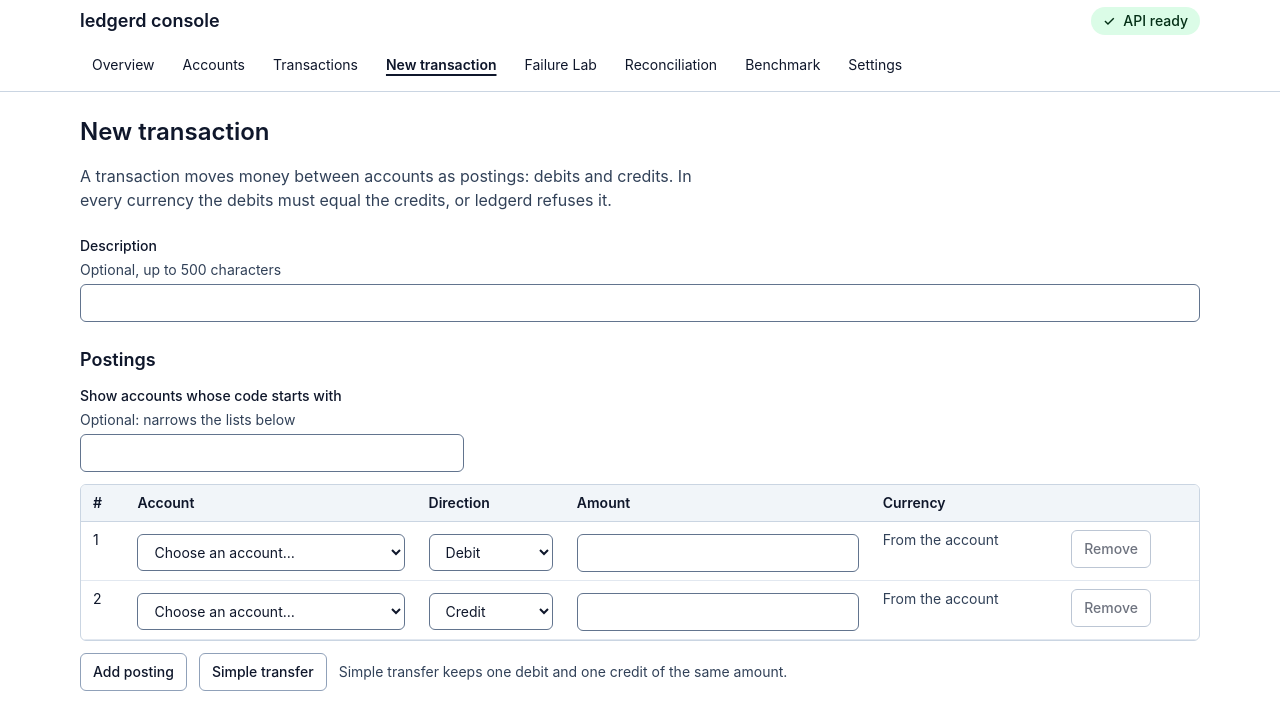
sending the same request again (R7.2, R7.3) › shows the key used, and a repeat is a replay: the first transaction comes back and nothing moves
This screenshot has width=1280, height=704.
expect the heading "New transaction" is shown: met, box [80, 116, 270, 148]
Select "bank (USD)" in the 1st dropdown named "Account for posting 1" at [271, 552], box [138, 534, 405, 571]
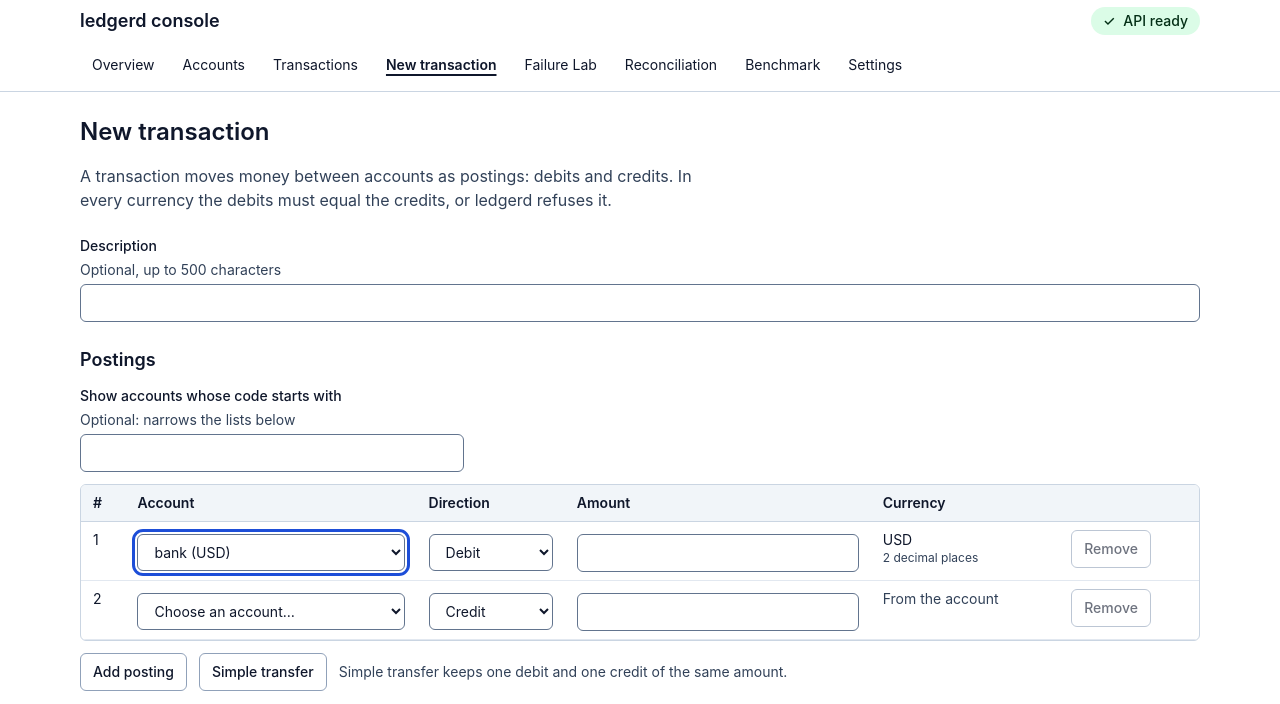
Select "wallet (USD)" in the 3rd dropdown named "Account for posting 2" at [271, 612], box [138, 593, 405, 630]
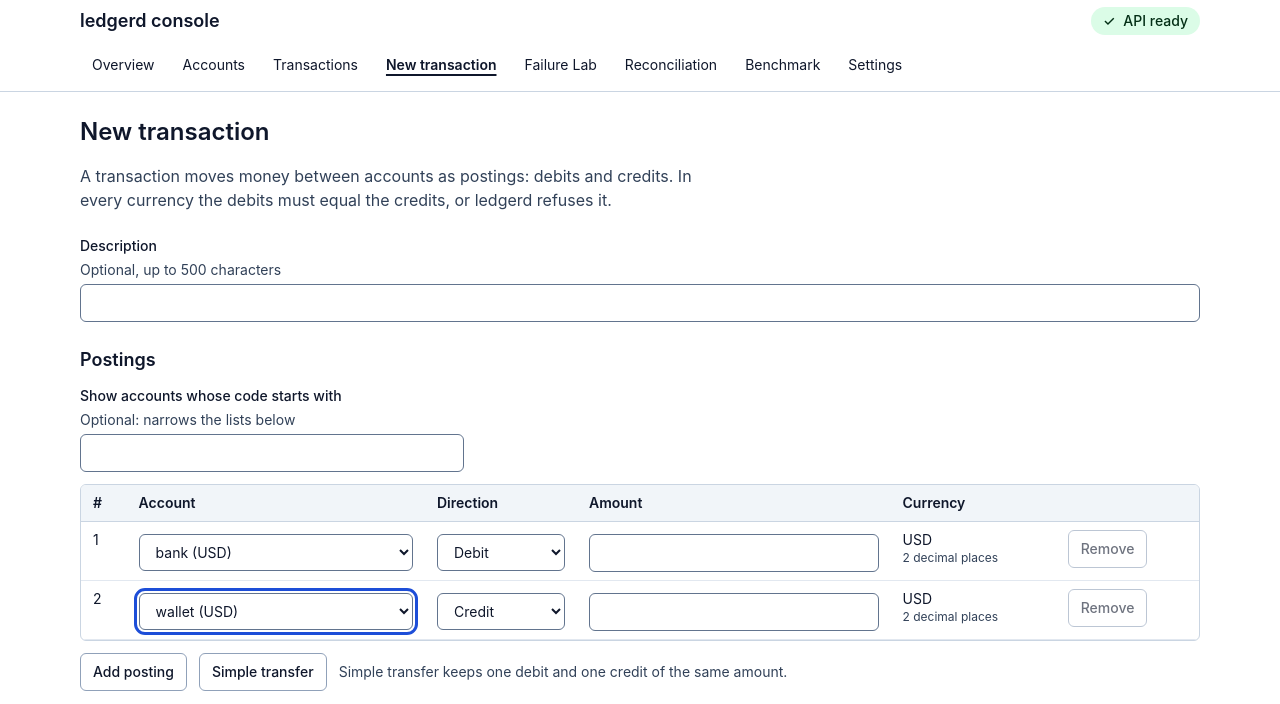
Type "100" into the 3rd field.
click(734, 553); type("100")  # box [589, 534, 879, 572]
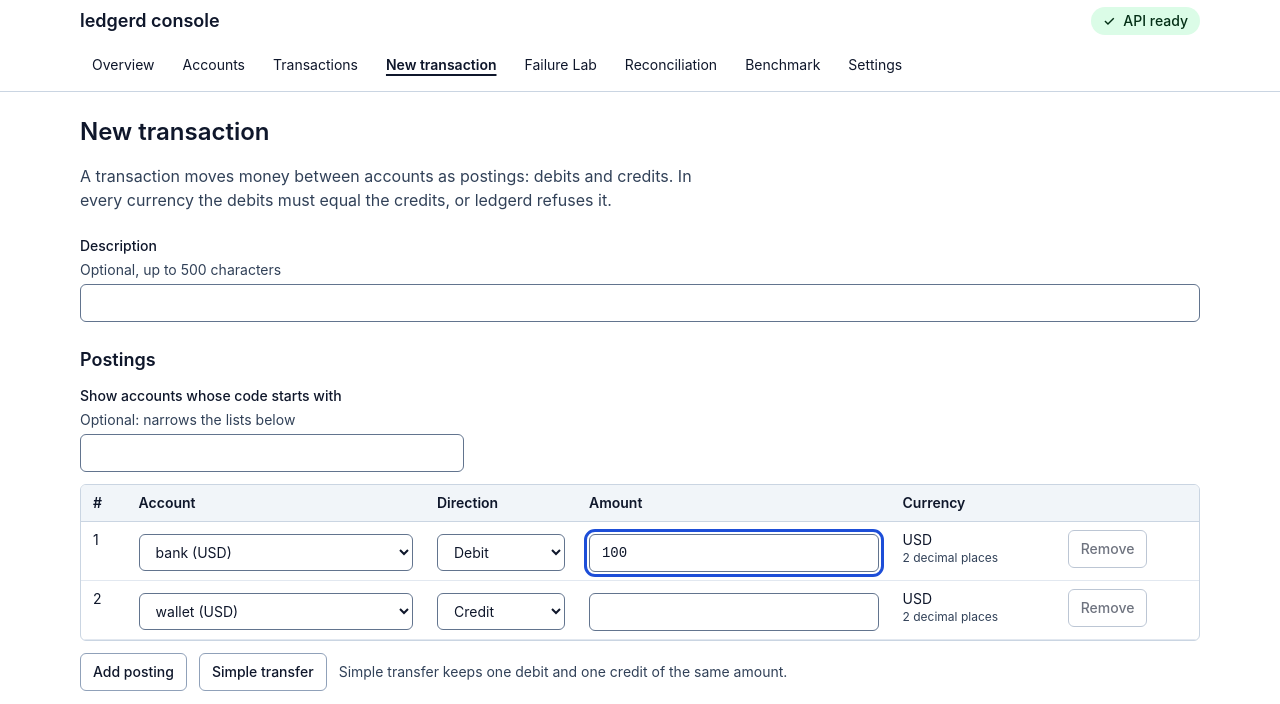
Type "100" into the 4th field.
click(734, 612); type("100")  # box [589, 593, 879, 631]
(page scrolled)
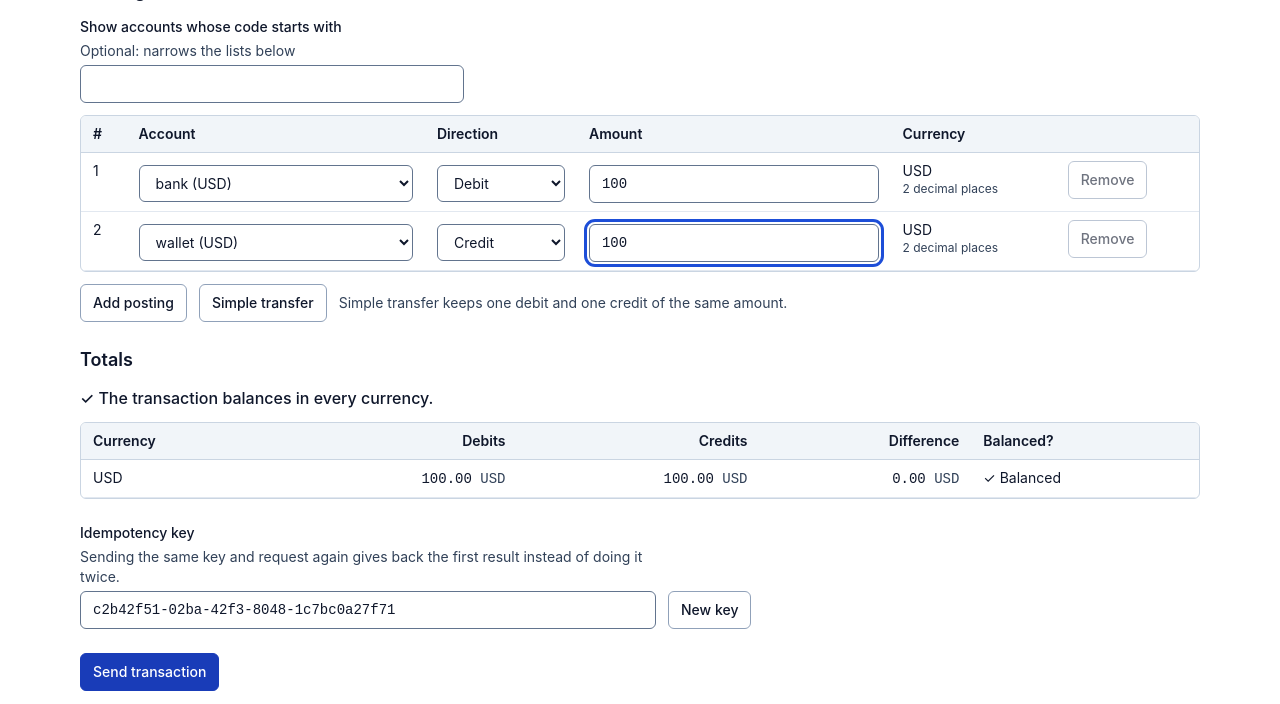
Click the button "Send transaction".
click(150, 672)  # box [80, 653, 219, 691]
(page scrolled)
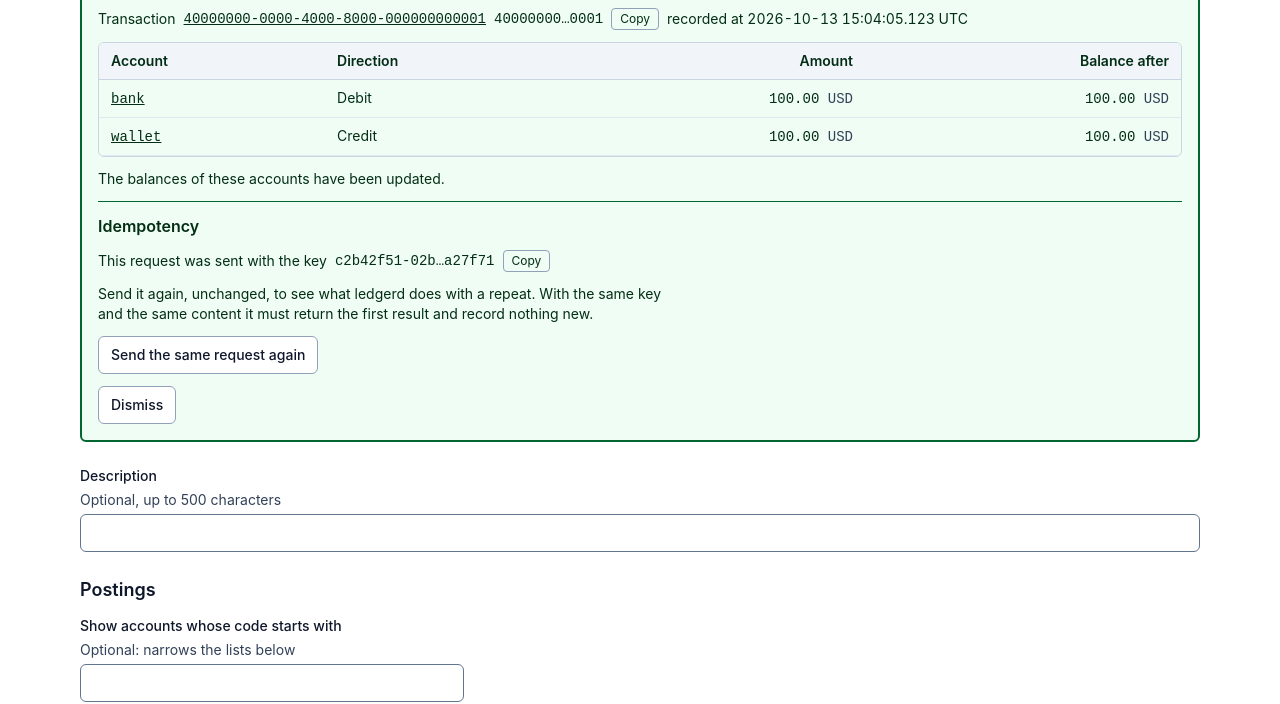
Click the button "Send the same request again".
click(208, 355)  # box [98, 336, 318, 374]
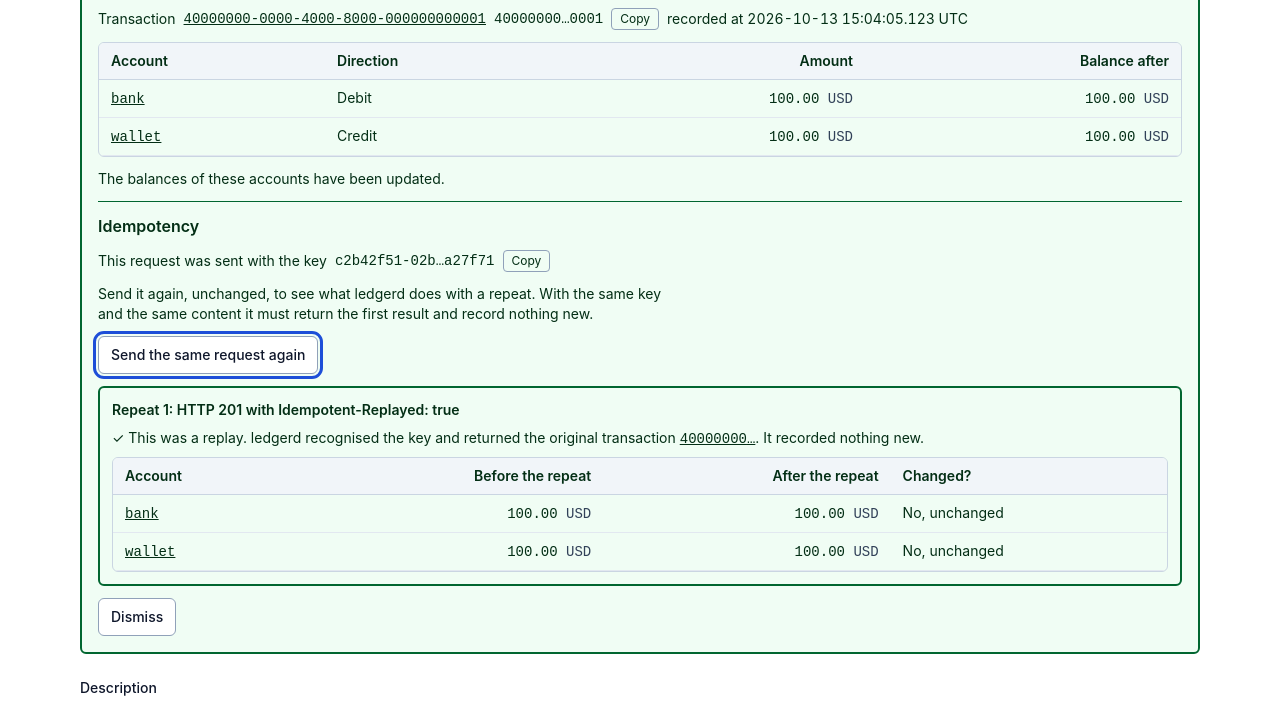
expect the row "bank 100.00 USD 100.00 USD No, unchanged" is shown: met, box [113, 495, 1167, 532]
expect the row "wallet 100.00 USD 100.00 USD No, unchanged" is shown: met, box [113, 532, 1167, 570]
